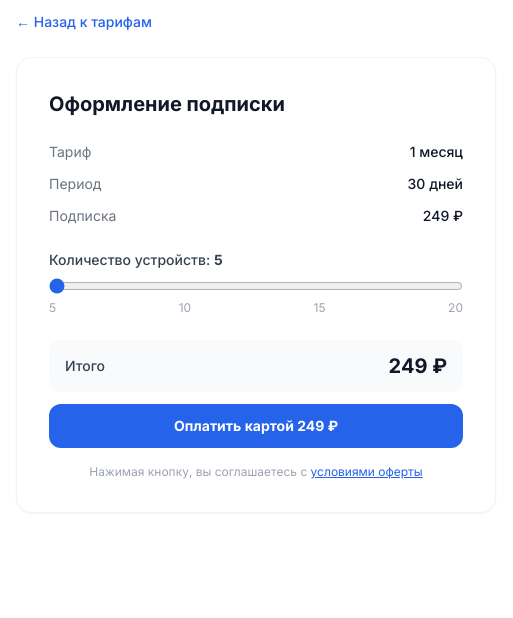
Test: Checkout (payment/[planId]) › shows an Alert when payment is unavailable
The image size is (513, 618).
Click the button "Оплатить картой 249 ₽" at (256, 426), box top-left (49, 404), bottom-right (463, 448)
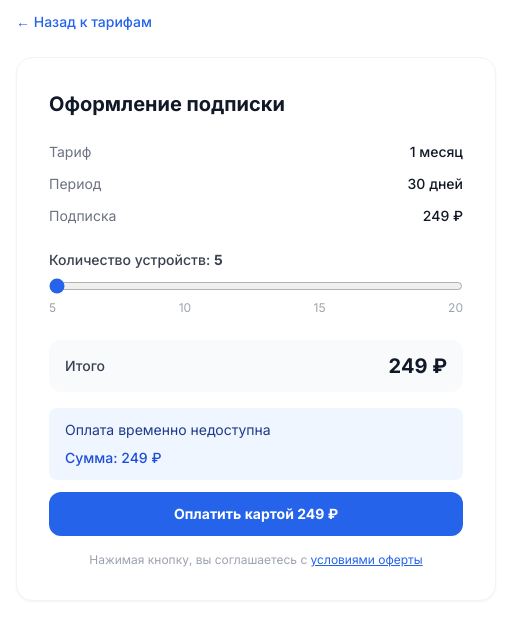
Check: the text "Оплата временно недоступна" is shown, box top-left (65, 421), bottom-right (271, 438)
